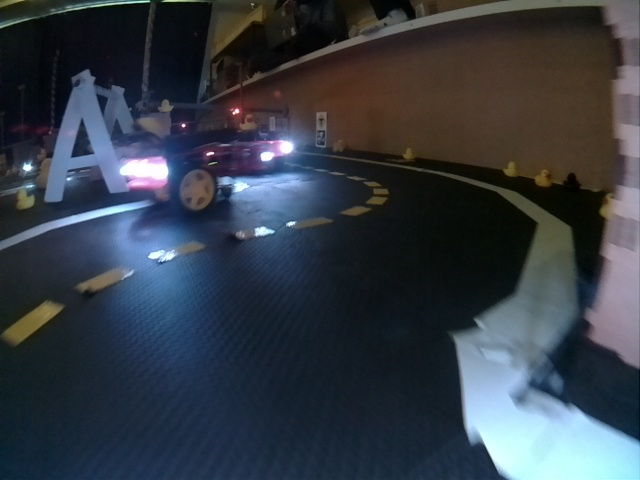Duckie: (600, 194, 616, 216), (16, 191, 35, 208), (240, 115, 256, 132), (537, 170, 552, 186), (504, 163, 519, 176), (159, 101, 173, 113), (332, 143, 347, 153), (403, 149, 414, 159)
Duckiebot: (127, 142, 233, 213)
Intersection sign: (316, 114, 326, 127)
QR code: (315, 129, 325, 147)
